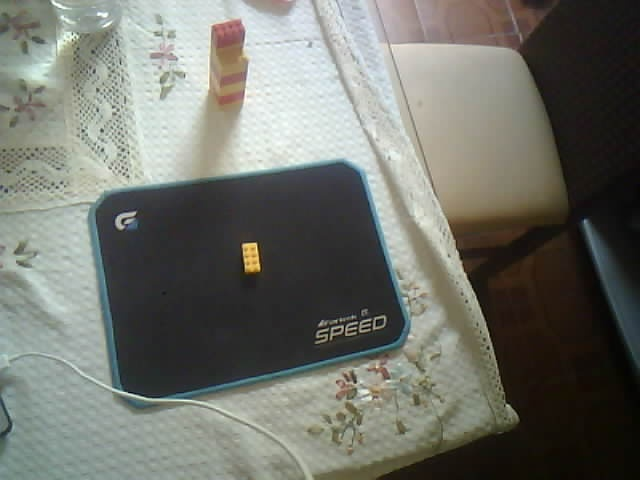lego: (210, 19, 250, 107), (240, 241, 262, 276)
